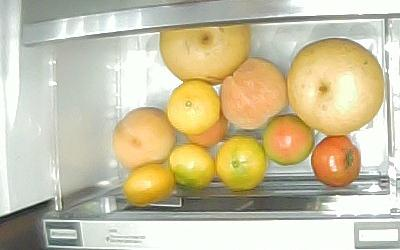peach: (219, 56, 286, 129), (111, 106, 175, 169)
pear: (286, 37, 383, 134), (159, 24, 250, 85)
tangerine: (166, 80, 219, 134), (215, 135, 266, 190), (124, 162, 175, 206), (169, 143, 214, 190)
tomato: (262, 114, 314, 165), (311, 135, 360, 187)
